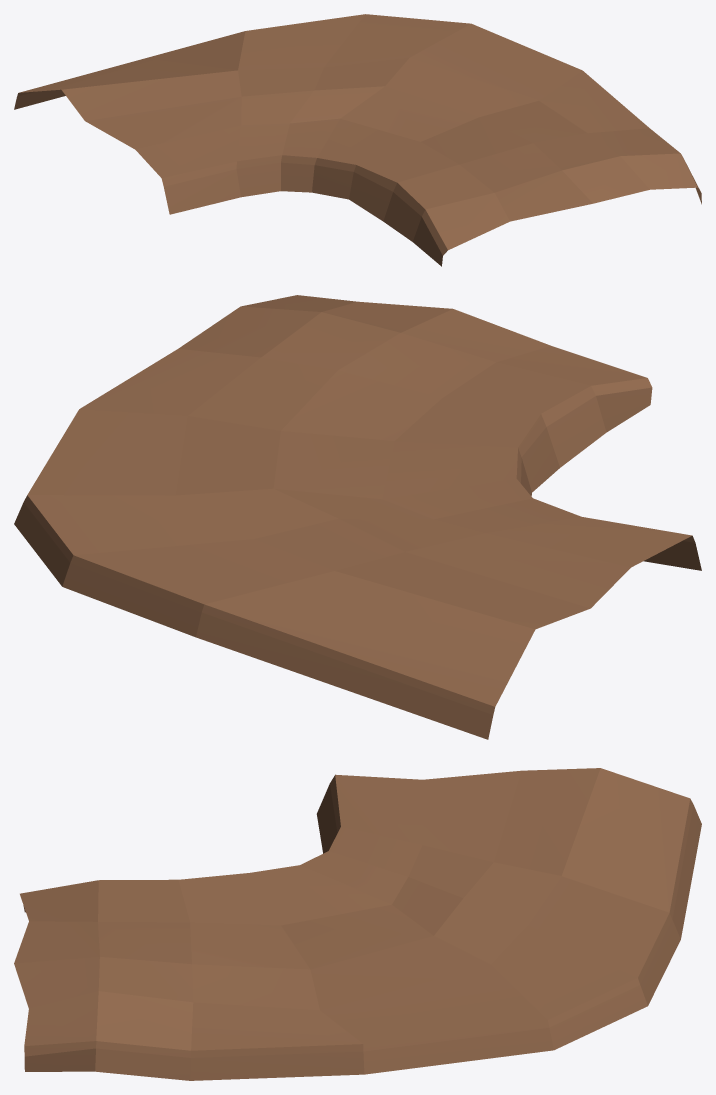
The model's file is RoadTile_12.fbx.
The picture shows the model from 3 angles, top to bottom: view 1: azimuth 30°, elevation 25°; view 2: azimuth 150°, elevation 25°; view 3: azimuth 270°, elevation 25°; orthographic projection. The views are drawn at different scales.
Parts seen in each view (by area): view 1: RoadTile_12; view 2: RoadTile_12; view 3: RoadTile_12.
Boxes of the visible parts, x1,y1,x2,y2 form: RoadTile_12: (14,14,701,266); RoadTile_12: (14,295,701,739); RoadTile_12: (14,768,701,1080).
Bounding box in the file's own units: 701 × 73.47 × 762.
